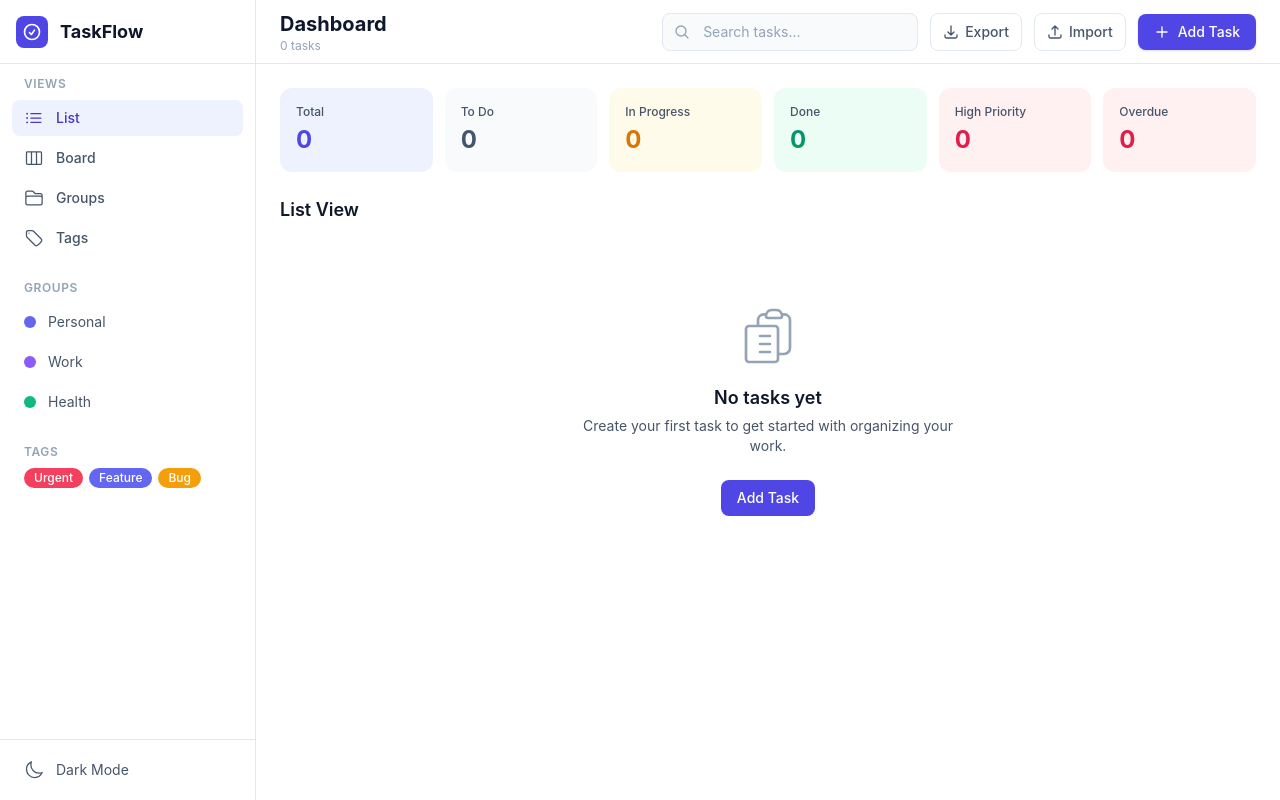
Test: App integration › view switching renders correct view components
Expected: the heading "List View" is shown, [280,199,359,220]
Switch to Board
Click the button "Board": (128, 158) [12,140,243,176]
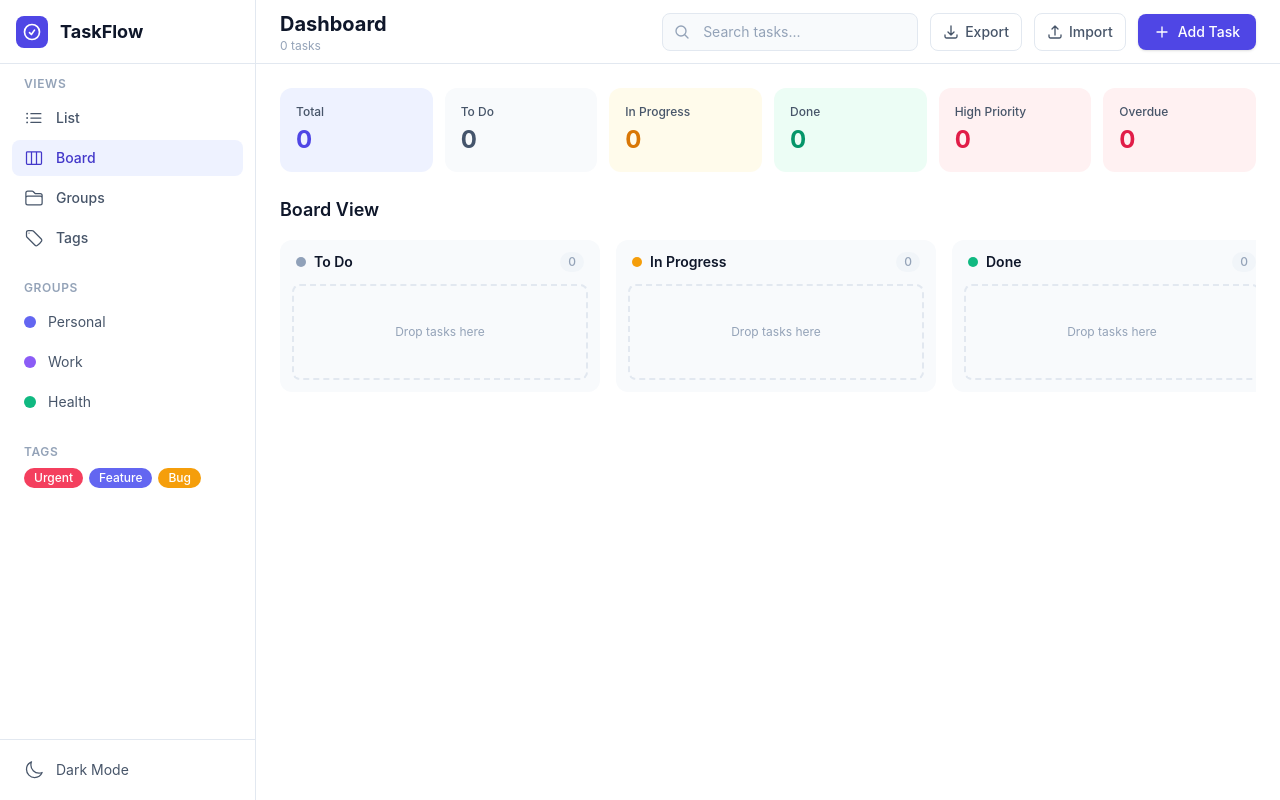
Now the heading "Board View" is shown, box [280,199,379,220]
Switch to Groups
Click the button "Groups": (128, 198) [12,180,243,216]
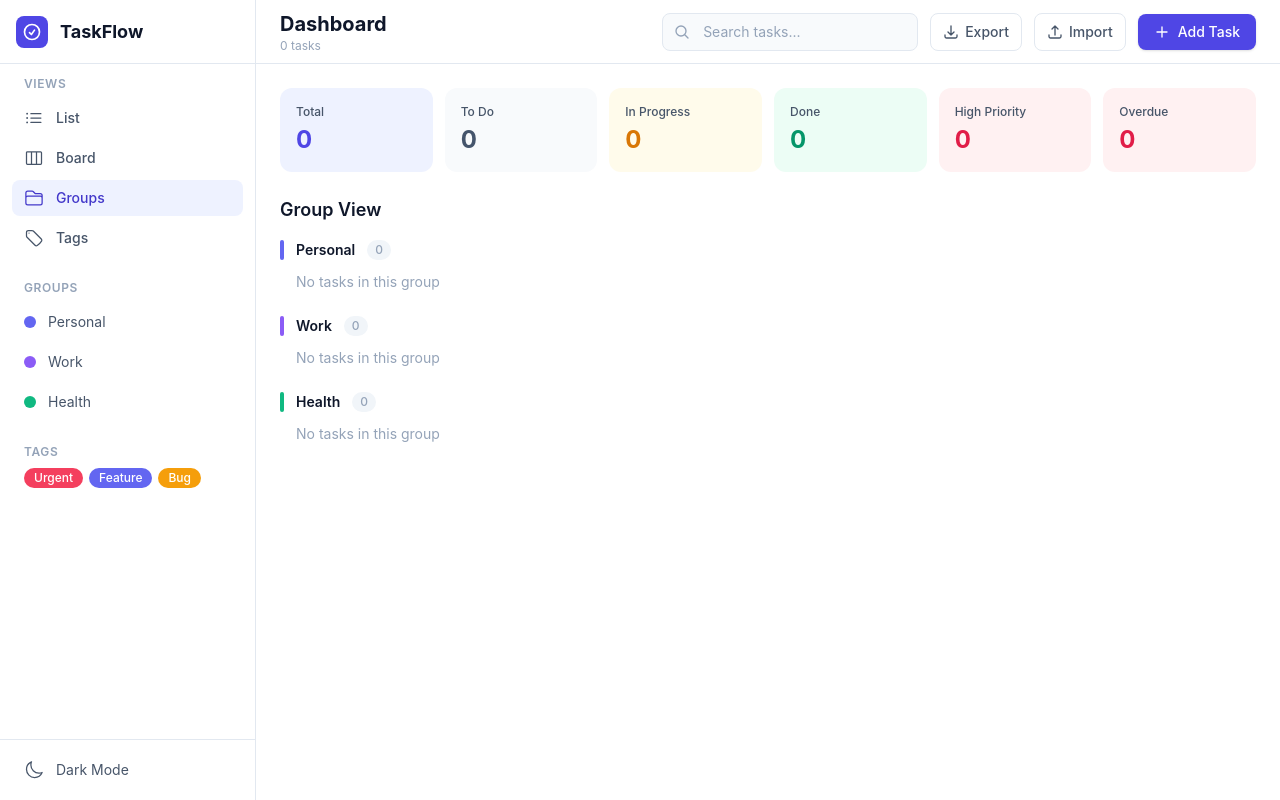
Now the heading "Group View" is shown, box [280,199,381,220]
Switch to Tags
Click the button "Tags": (128, 238) [12,220,243,256]
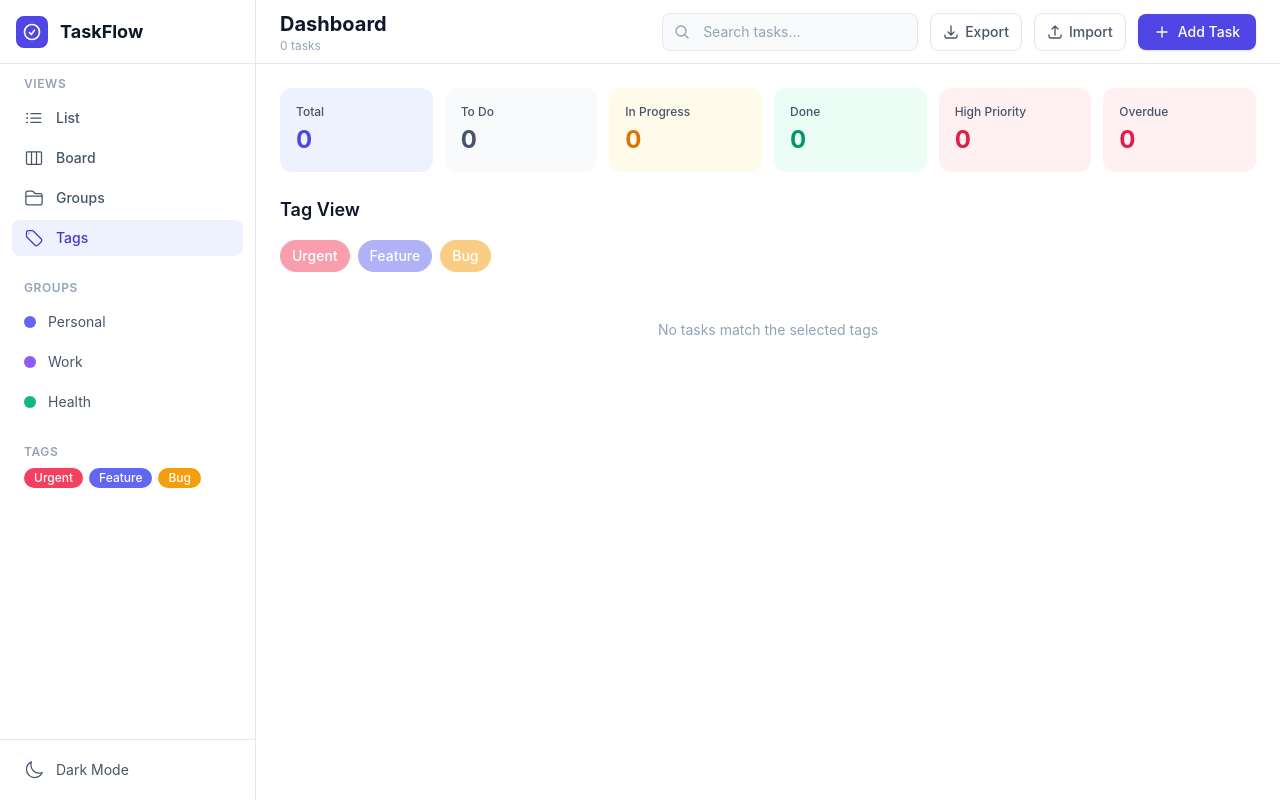
Now the heading "Tag View" is shown, box [280,199,360,220]
Back to List
Click the button "List": (128, 118) [12,100,243,136]
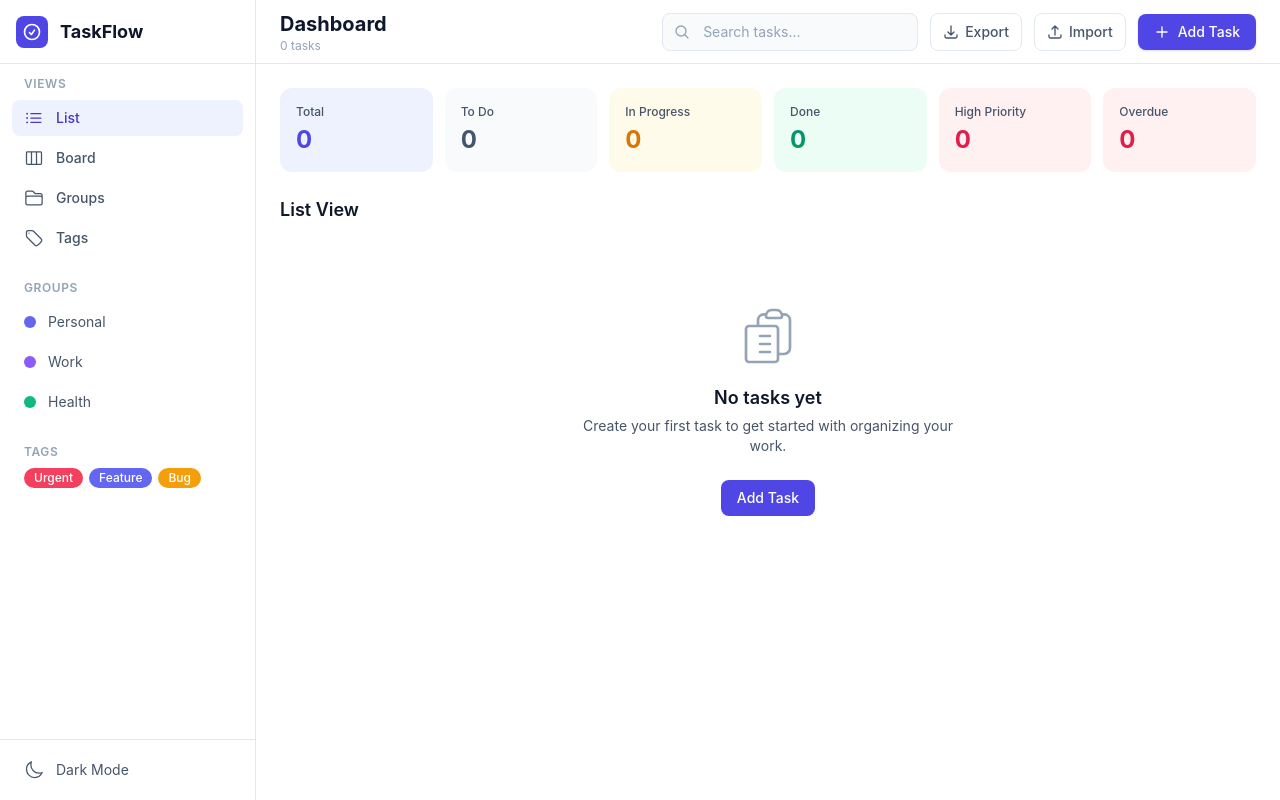
Now the heading "List View" is shown, box [280,199,359,220]
